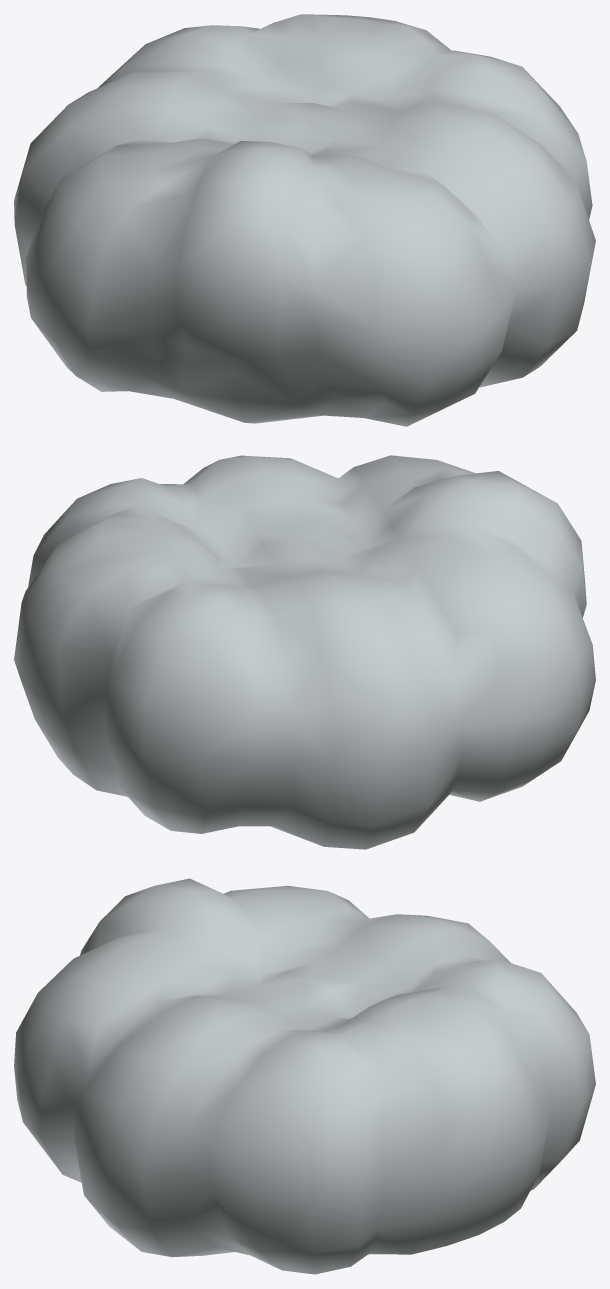
The picture shows the model from 3 angles, top to bottom: view 1: azimuth 30°, elevation 25°; view 2: azimuth 150°, elevation 25°; view 3: azimuth 270°, elevation 25°; orthographic projection. The views are drawn at different scales.
Parts seen in each view (by area): view 1: wk_s_27; view 2: wk_s_27; view 3: wk_s_27.
Part boxes in pixels (x1,y1,x2,y2): wk_s_27: (14, 14, 595, 426); wk_s_27: (14, 455, 595, 849); wk_s_27: (14, 878, 595, 1274).
Size of the model in its own units: 6.39 by 6.42 by 3.25.
